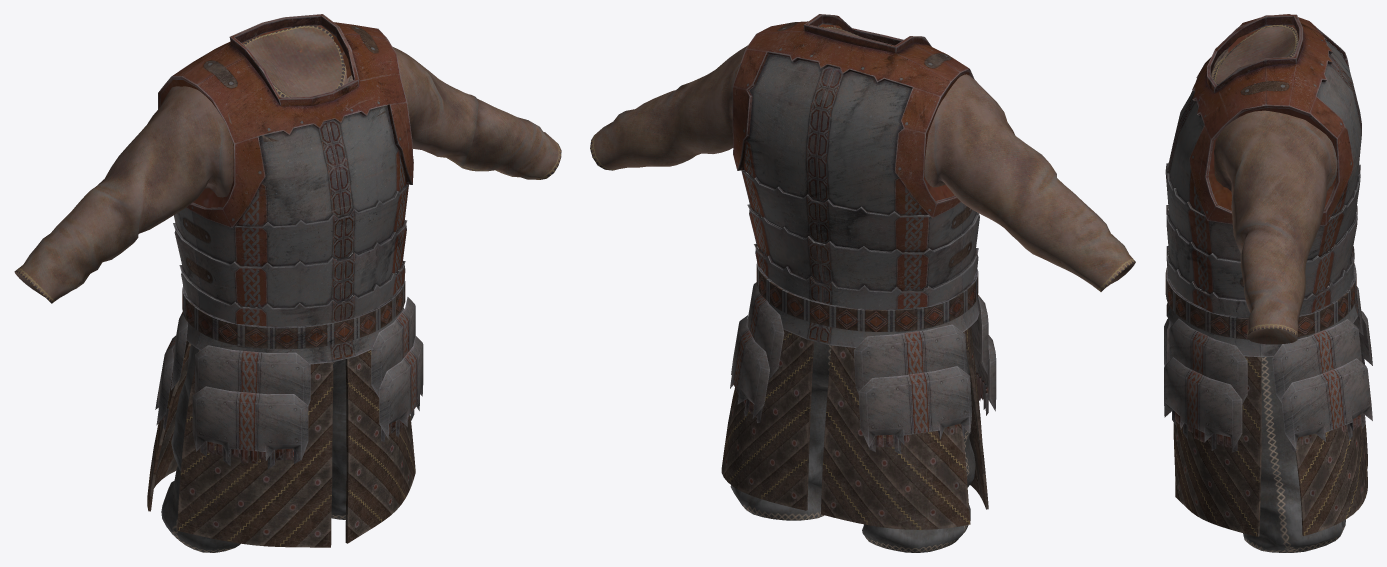
The model's file is sk_dwarf_iron_chest_elite_b.fbx.
The picture shows the model from 3 angles, left to right: view 1: azimuth 30°, elevation 25°; view 2: azimuth 150°, elevation 25°; view 3: azimuth 270°, elevation 25°; orthographic projection. The views are drawn at different scales.
Visible parts, largest first — view 1: sk_dwarf_iron_chest_elite_b.0, sk_dwarf_iron_chest_elite_b.2, sk_dwarf_iron_chest_elite_b.1; view 2: sk_dwarf_iron_chest_elite_b.0, sk_dwarf_iron_chest_elite_b.2, sk_dwarf_iron_chest_elite_b.1; view 3: sk_dwarf_iron_chest_elite_b.0, sk_dwarf_iron_chest_elite_b.2, sk_dwarf_iron_chest_elite_b.1.
Part boxes in pixels (bbox=[...]): sk_dwarf_iron_chest_elite_b.0: bbox=[155, 14, 423, 552]; sk_dwarf_iron_chest_elite_b.2: bbox=[14, 25, 561, 547]; sk_dwarf_iron_chest_elite_b.1: bbox=[182, 276, 405, 349]; sk_dwarf_iron_chest_elite_b.0: bbox=[730, 14, 996, 552]; sk_dwarf_iron_chest_elite_b.2: bbox=[590, 26, 1135, 529]; sk_dwarf_iron_chest_elite_b.1: bbox=[756, 262, 978, 331]; sk_dwarf_iron_chest_elite_b.0: bbox=[1164, 14, 1372, 552]; sk_dwarf_iron_chest_elite_b.2: bbox=[1173, 24, 1367, 536]; sk_dwarf_iron_chest_elite_b.1: bbox=[1165, 263, 1356, 339].
Size of the model in its own units: 1.17 by 0.4086 by 1.03.
